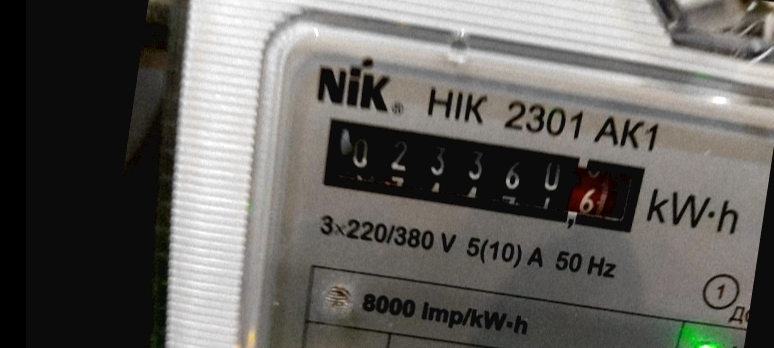0: (346, 132, 373, 170), (538, 157, 564, 195)
2: (386, 136, 412, 174)
3: (424, 142, 449, 180), (463, 147, 486, 183)
6: (500, 155, 524, 192), (575, 181, 597, 217)
screen: (303, 104, 665, 254)
